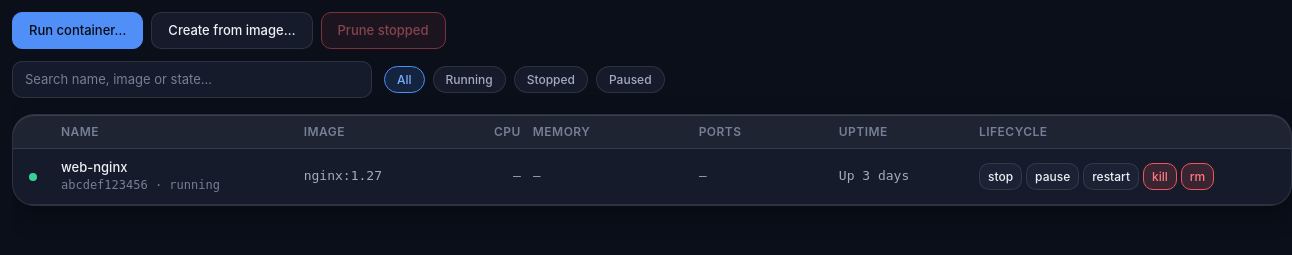
Test: ContainersScreen — running lifecycle actions (REQ-20) › reports the daemon's own error message and leaves the screen usable when a lifecycle action fails
Click the button "stop": [1001, 177] box x1=979 y1=163 x2=1022 y2=190
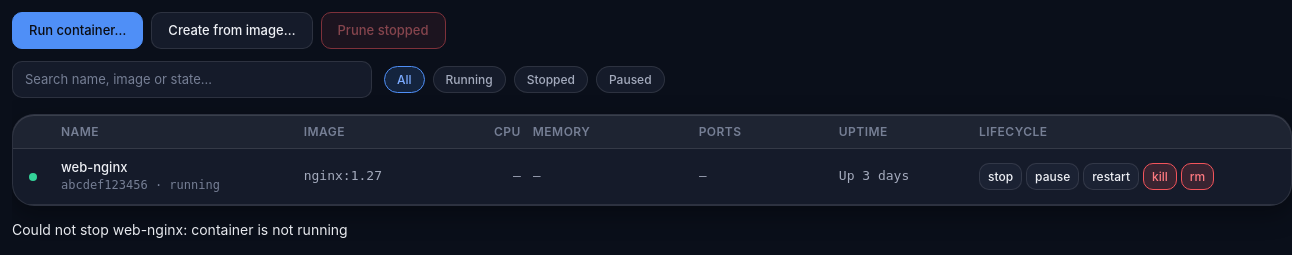
Now the text "Could not stop web-nginx: container is not running" is shown, box x1=12 y1=221 x2=348 y2=238
